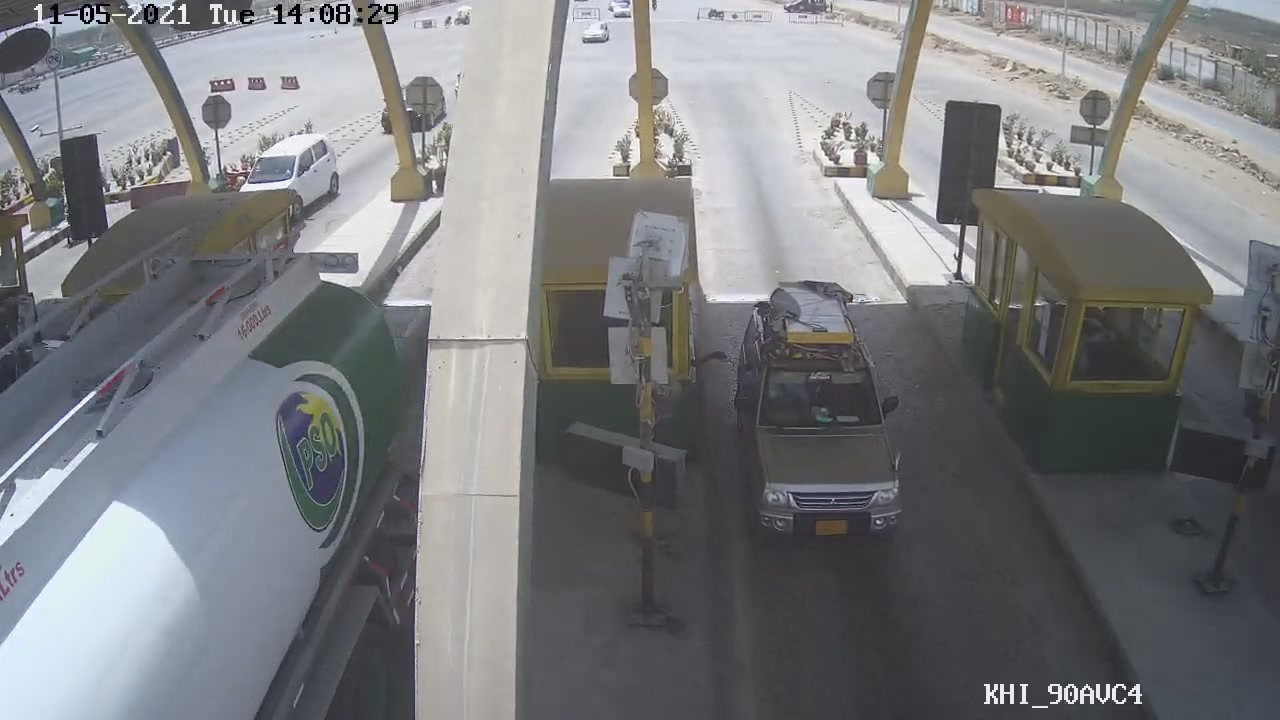F1: (715, 283, 915, 549)
